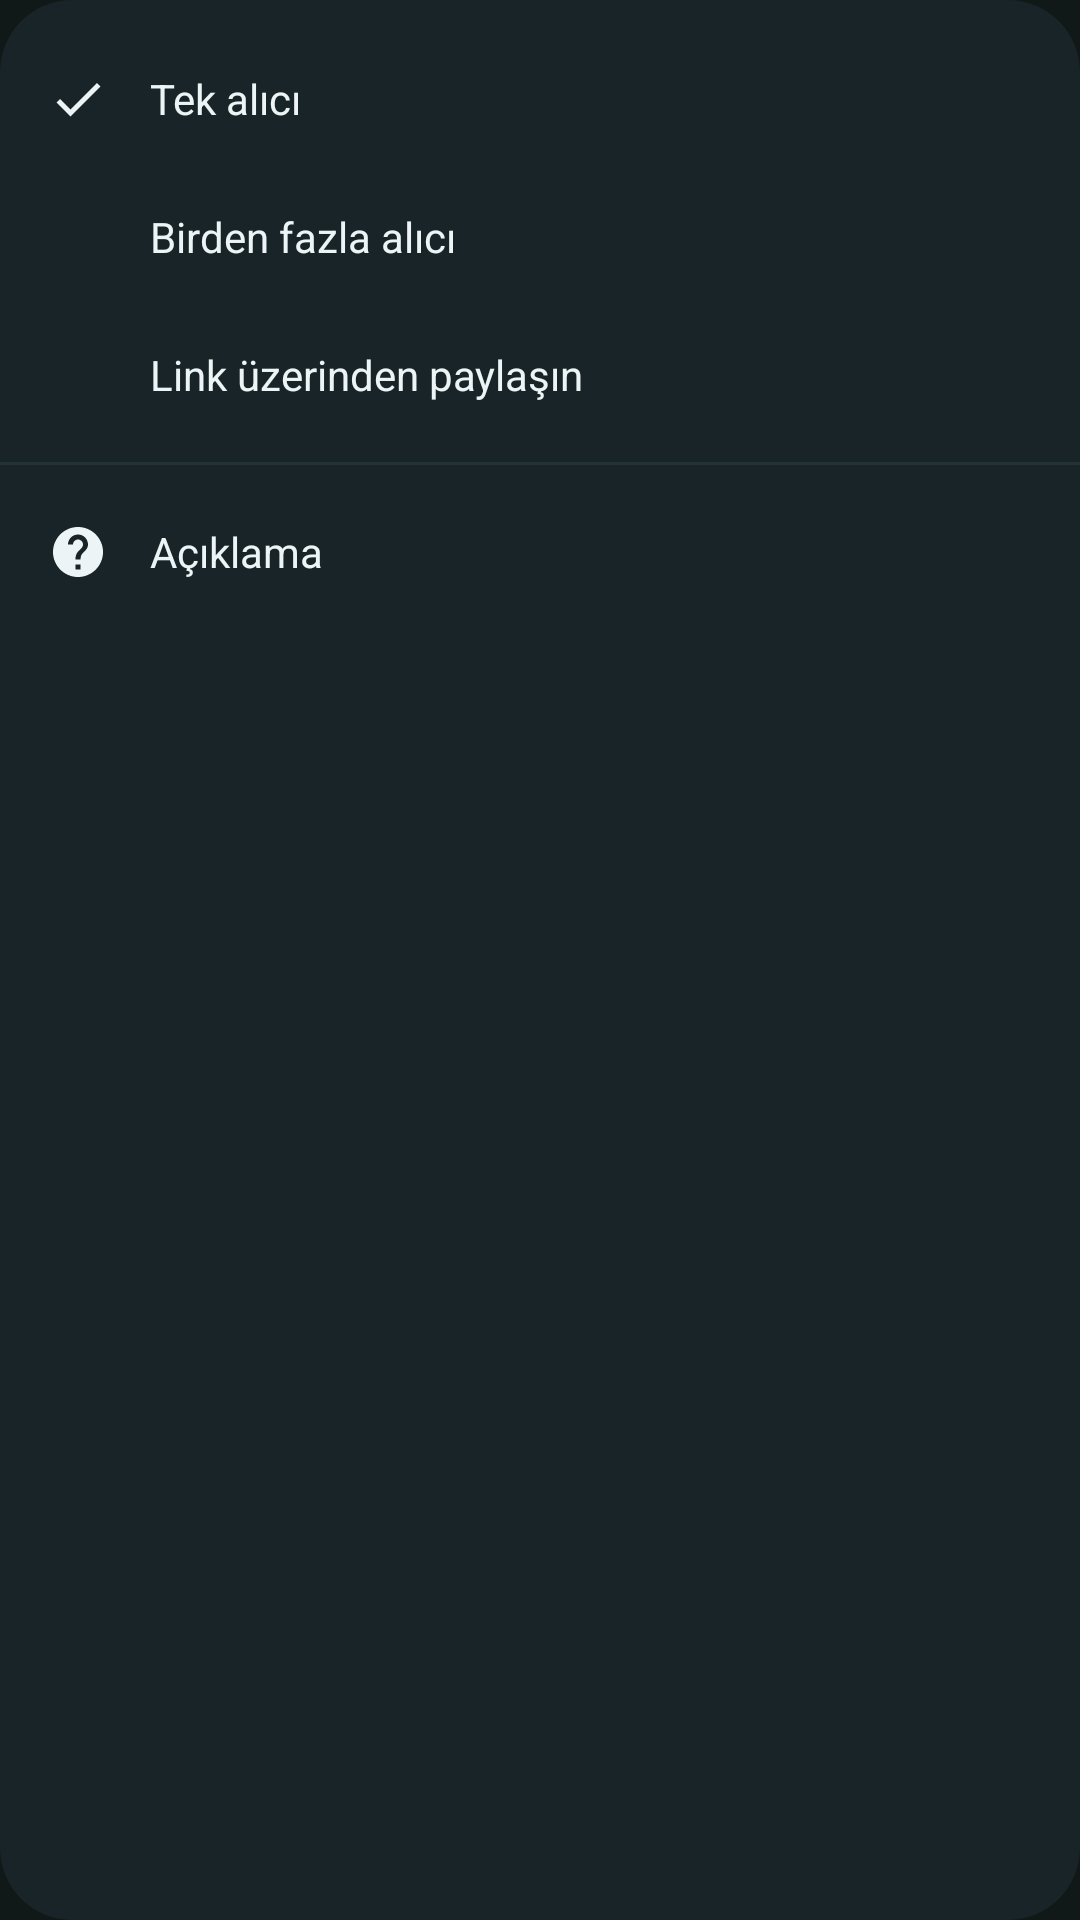

Point at icon controls on the screen. Image size 1080 x 1920, points as (x=x, y=y).
check mark: (x=78, y=100)
help question: (x=78, y=552)
